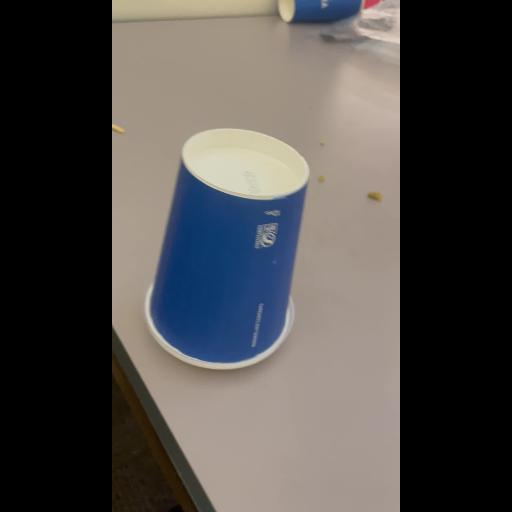lp_paper_cup: (134, 120, 338, 380)
